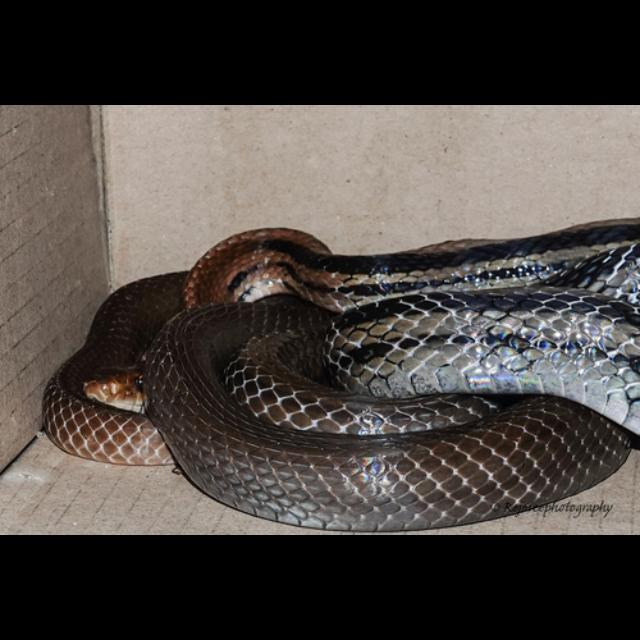snake: (42, 213, 640, 535)
